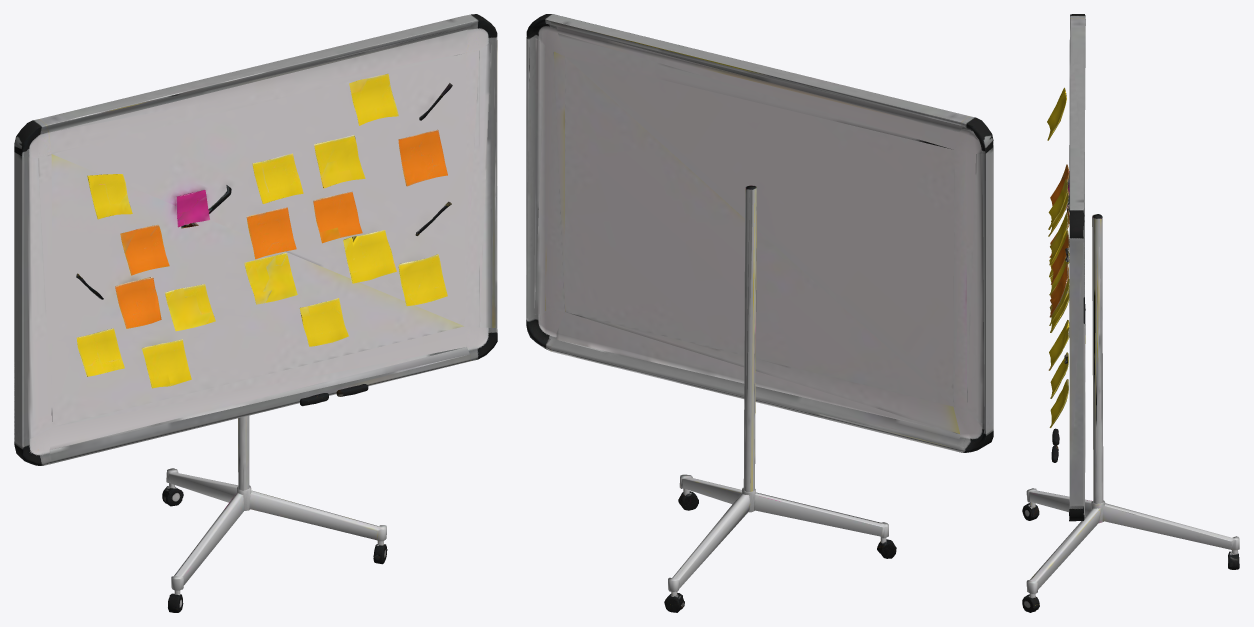
Rendered from whiteboard.glb.
The picture shows the model from 3 angles, left to right: view 1: azimuth 30°, elevation 25°; view 2: azimuth 150°, elevation 25°; view 3: azimuth 270°, elevation 25°; orthographic projection. The views are drawn at different scales.
Bounding box in the file's own units: 1 × 1 × 0.4349.
Materials: 1 (1 with a texture image).
